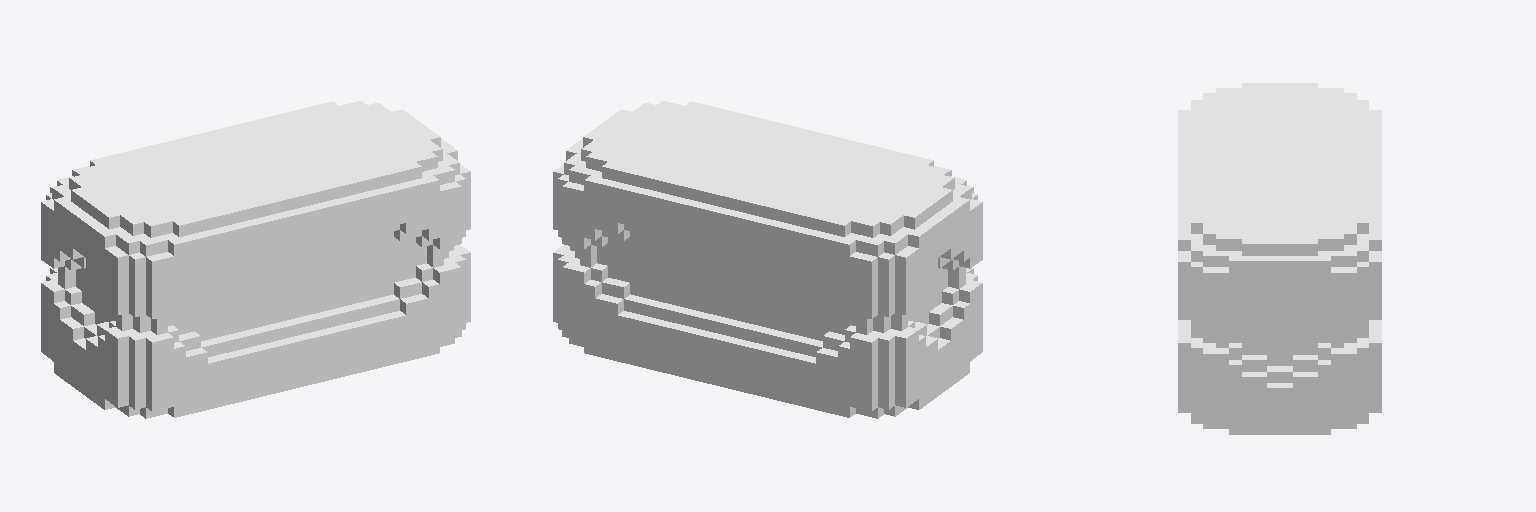
The model's file is bluePowerUp.obj.
3 views of the same model, side by side, from view 1: azimuth 30°, elevation 25°; view 2: azimuth 150°, elevation 25°; view 3: azimuth 270°, elevation 25° (orthographic).
Parts seen in each view (by area): view 1: object 1; view 2: object 1; view 3: object 1.
Part boxes in pixels (x1,y1,x2,y2): object 1: (41,101,470,418); object 1: (553,101,982,418); object 1: (1178,83,1381,434).
Bounding box in the file's own units: 3.2 × 1.6 × 1.6.